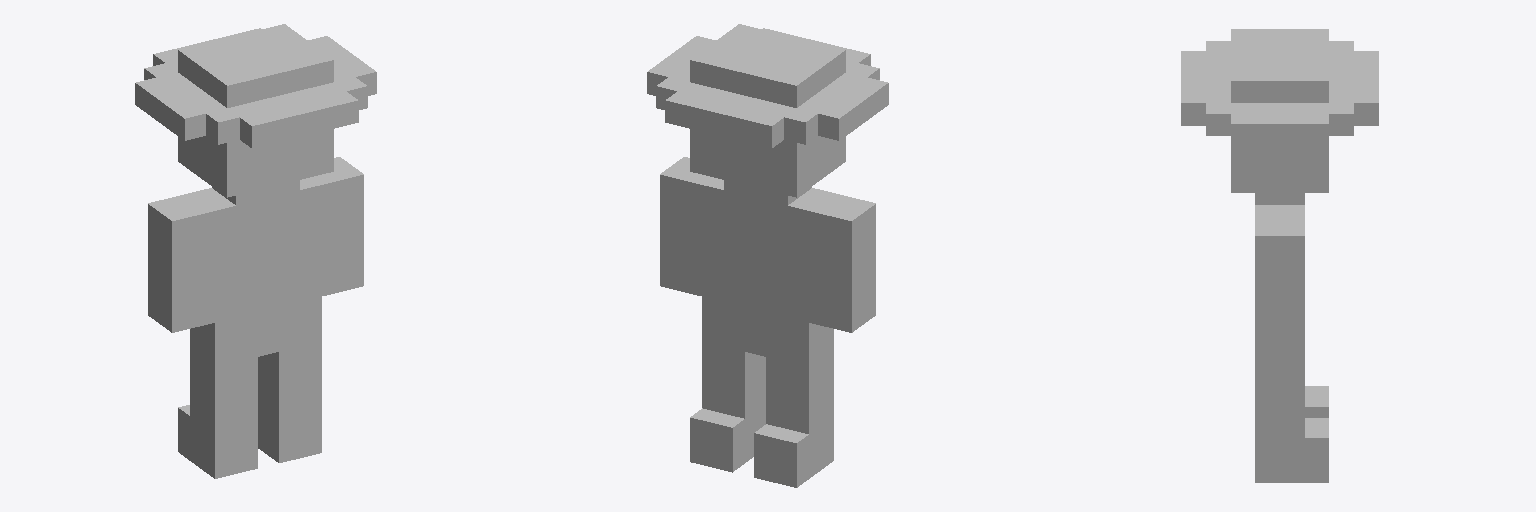
File: Fazendeiro.obj
3 views of the same model, side by side, from view 1: azimuth 30°, elevation 25°; view 2: azimuth 150°, elevation 25°; view 3: azimuth 270°, elevation 25° (orthographic).
Visible parts, largest first — view 1: Model; view 2: Model; view 3: Model.
Part boxes in pixels (x1,y1,x2,y2): Model: (135,24,376,478); Model: (647,24,888,487); Model: (1181,29,1378,482).
Size of the model in its own units: 14.4 by 28.8 by 12.8.